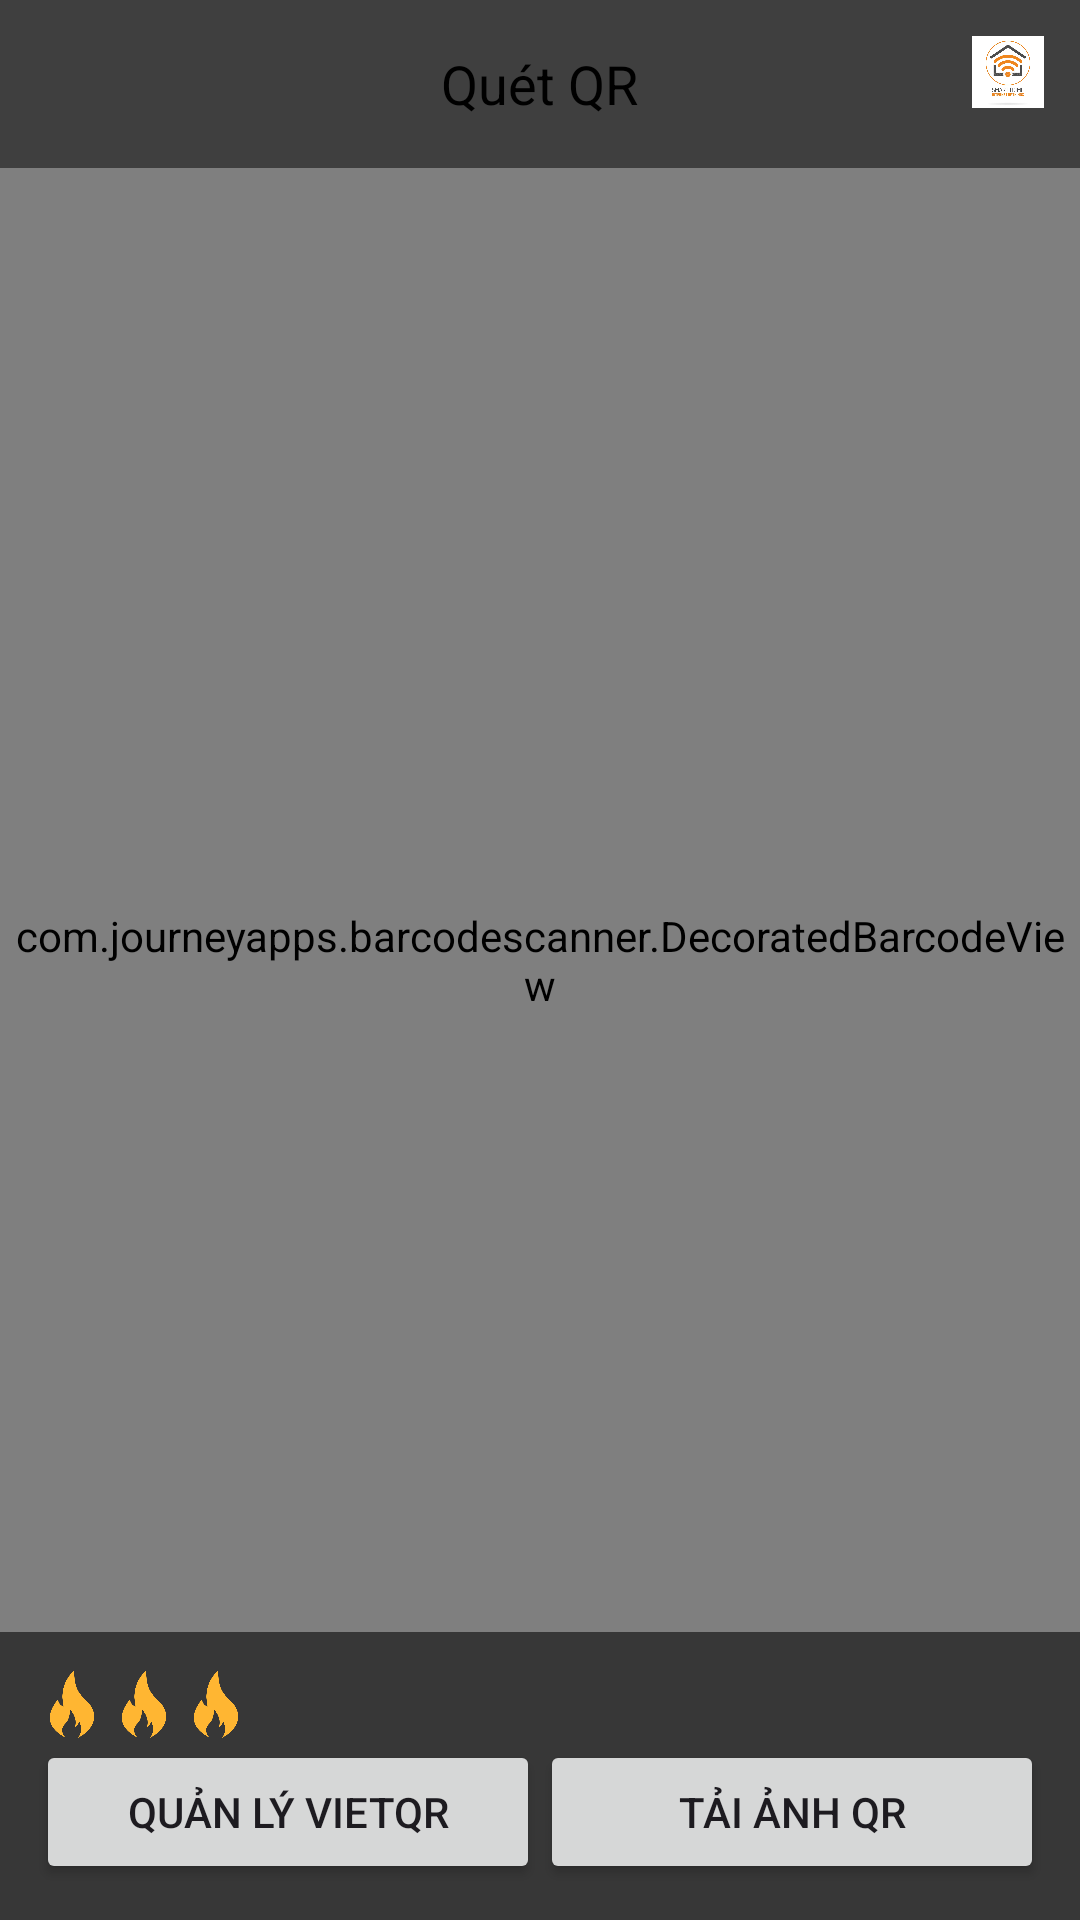

Named icons in this screenshot (1080w x 1920h) and their centers, (x,y):
fire: (72,1704), (144,1704), (216,1704)
